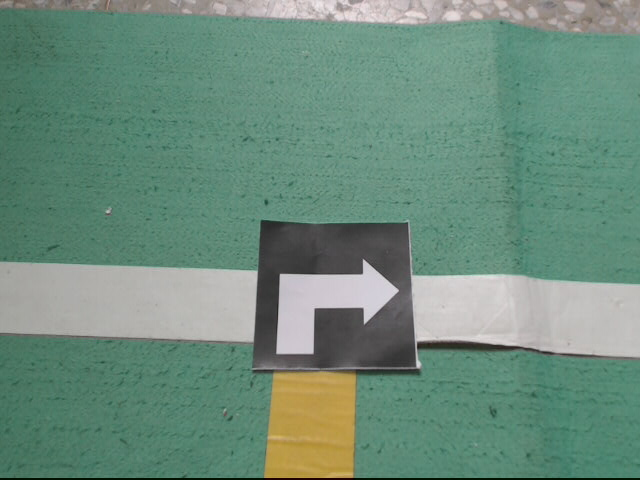right: (251, 219, 423, 369)
